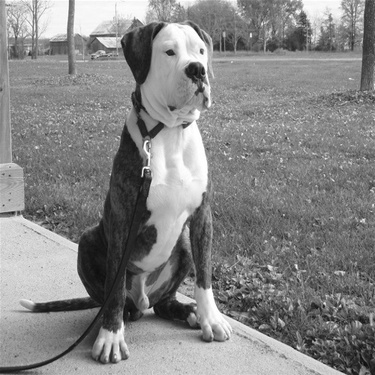dog: (15, 12, 234, 364)
